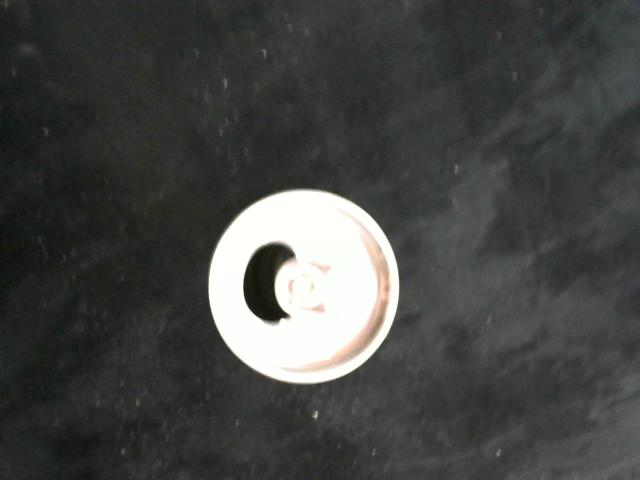can: (207, 186, 401, 388)
